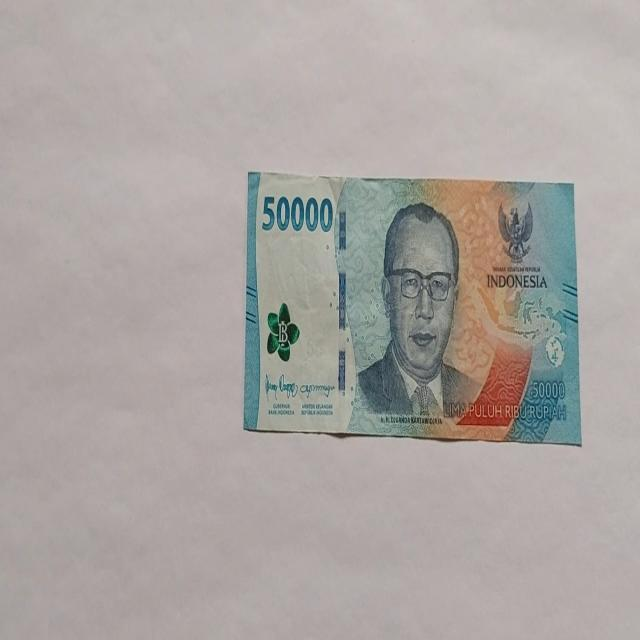lima puluh ribu rupiah: (243, 170, 580, 444), (348, 200, 484, 431)
